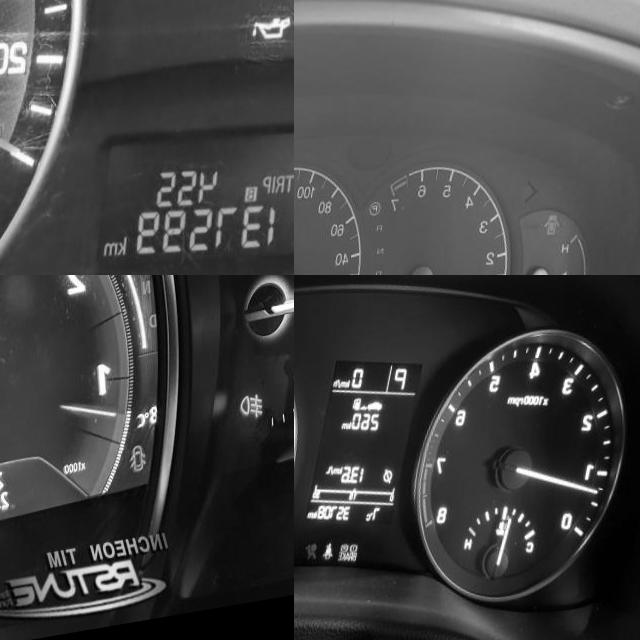Doors: (129, 448, 147, 478), (544, 228, 562, 254)
FrontFogLight: (242, 401, 264, 432)
